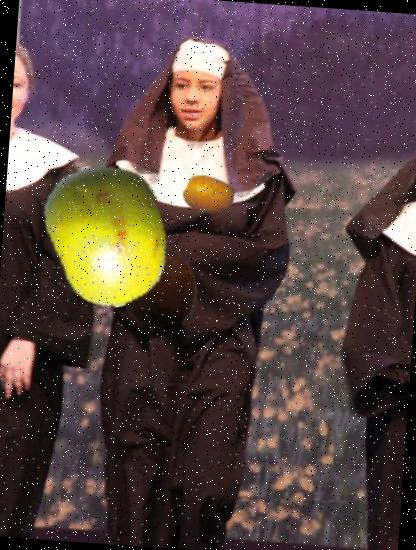Kumquats: (181, 167, 236, 223)
Nut: (115, 244, 200, 329)
Pomelo: (29, 158, 184, 313)
